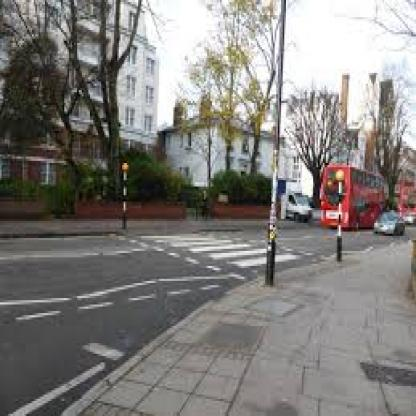car: (315, 154, 389, 240), (279, 173, 316, 228), (373, 210, 410, 245)
